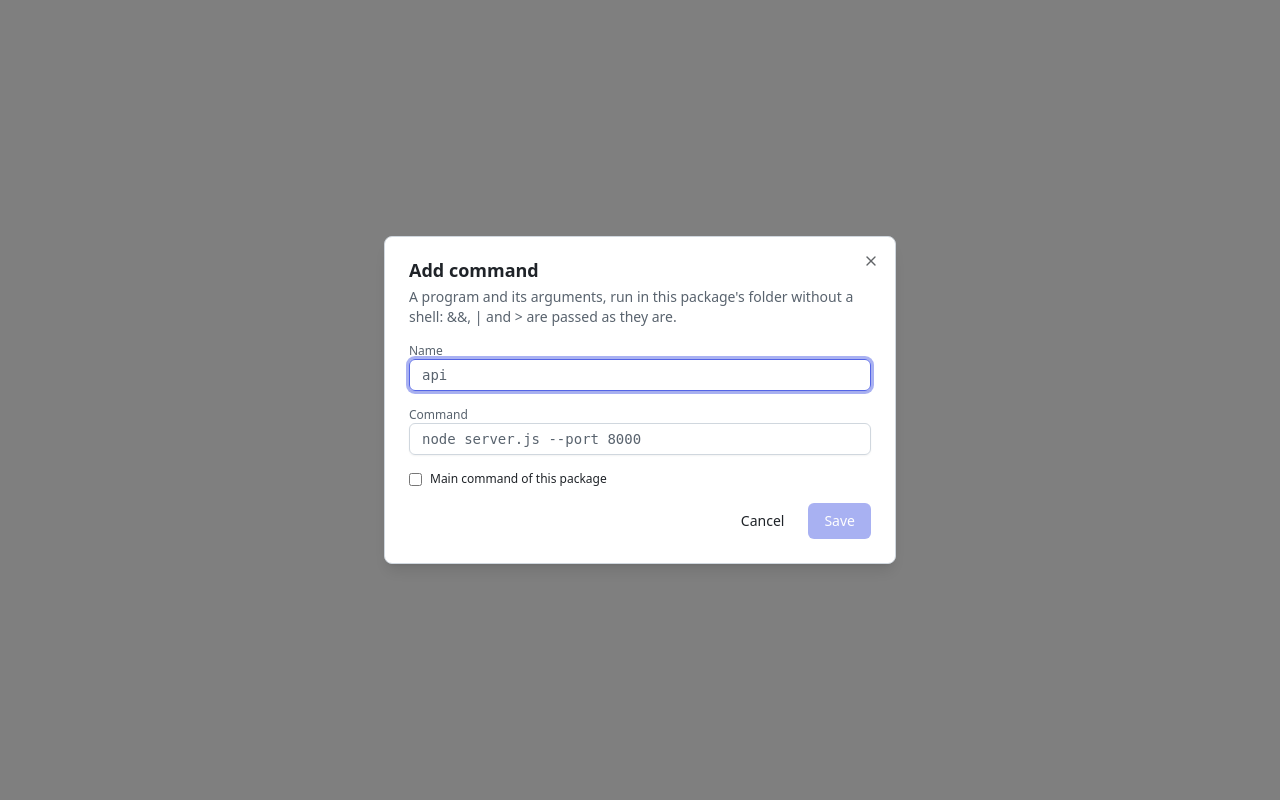
Test: CommandDialog › stays open and toasts a clash
Type "dev" into the field labelled "Name". click: (640, 375)
box: [409,359,871,391]
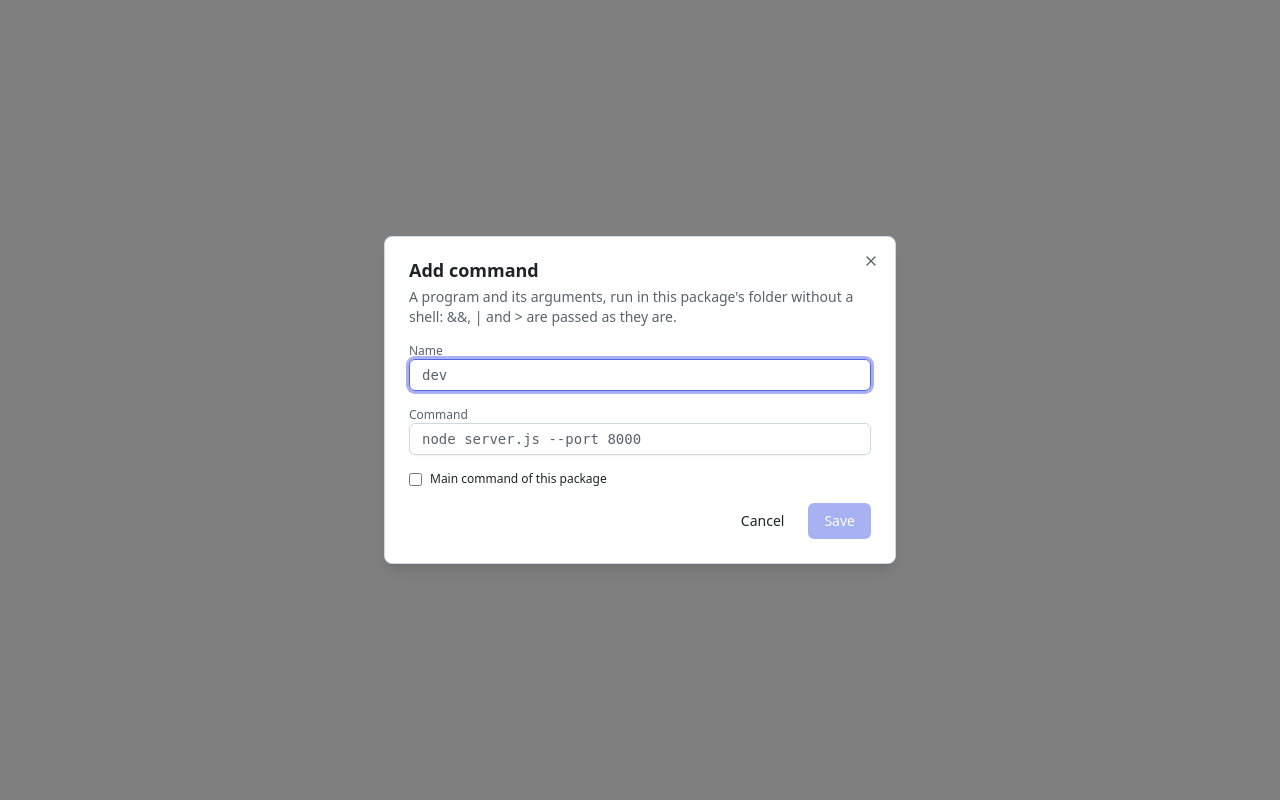
Type "python main.py" into the field labelled "Command". click: (640, 439)
box: [409,423,871,455]
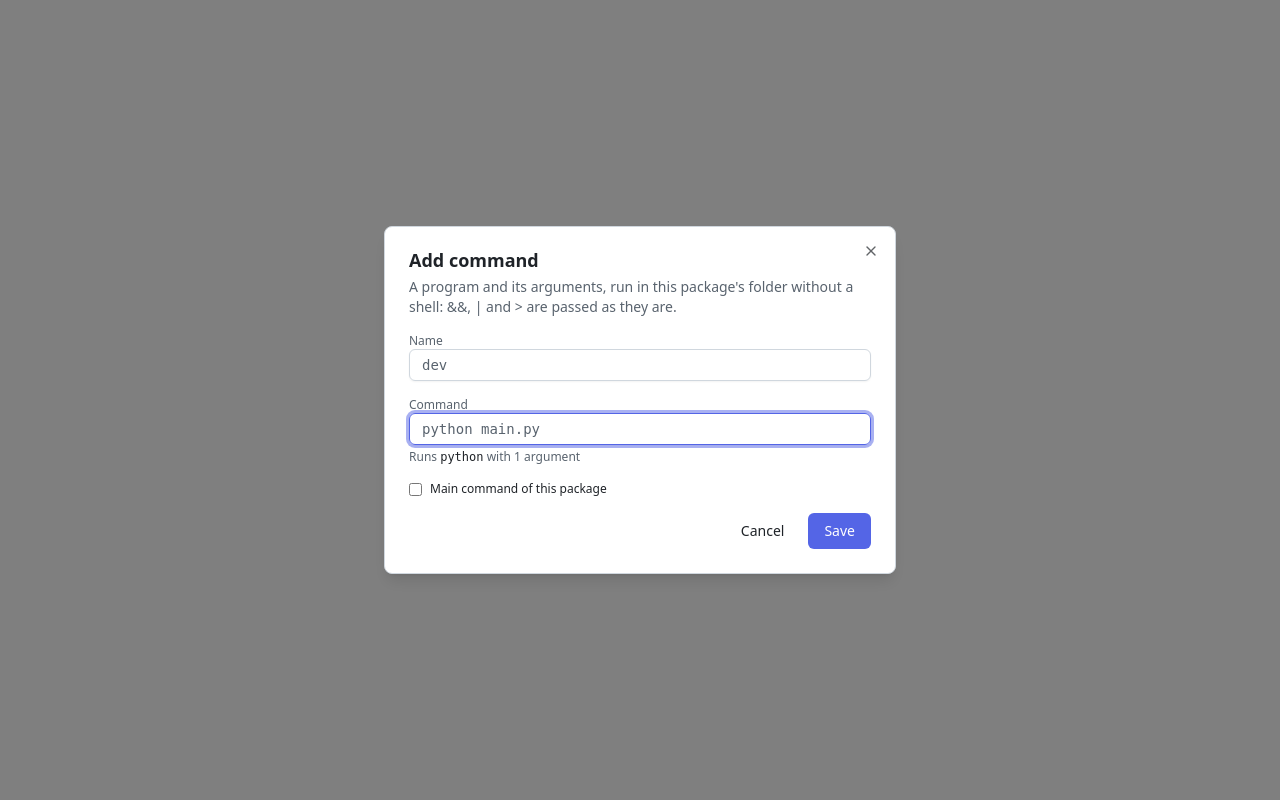
Click the button "Save". click: (840, 531)
box: [808,513,871,549]
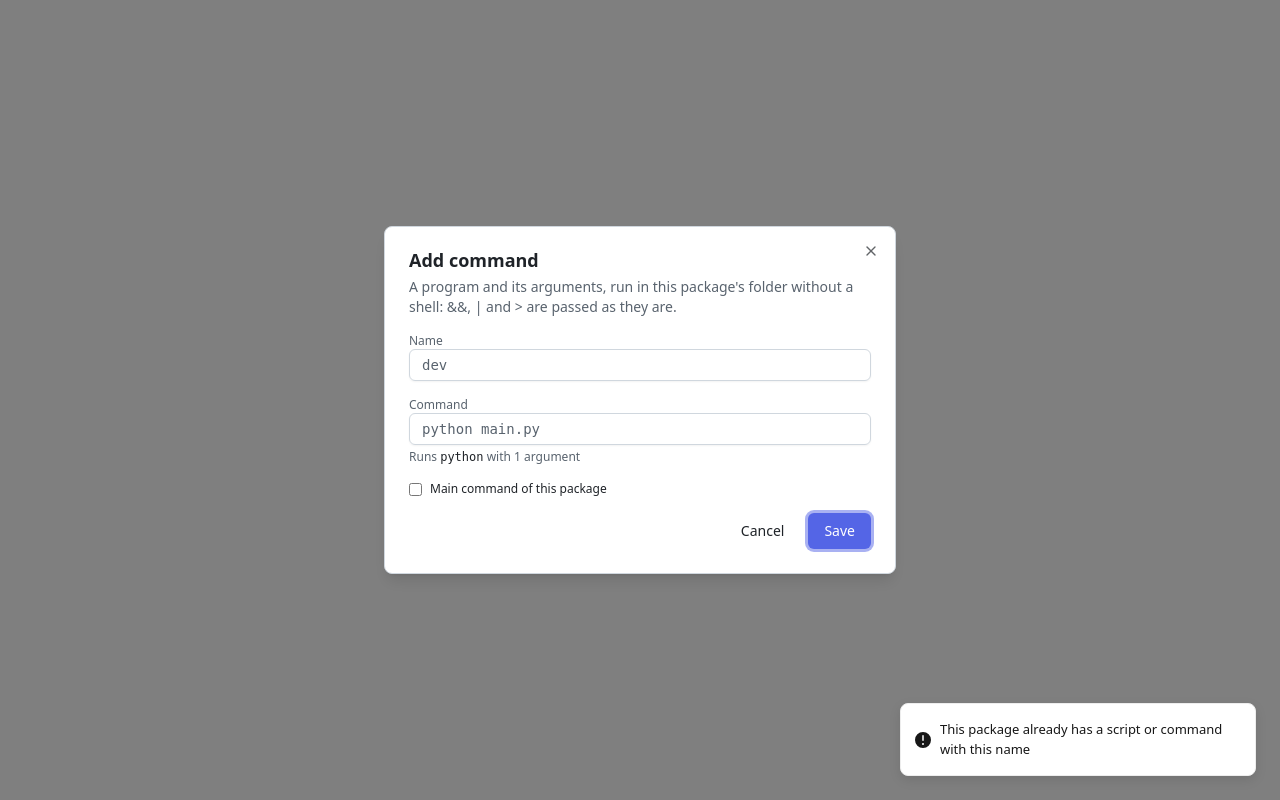
Check: the text "This package already has a script or command with this name" is shown, box [940,720,1239,759]
